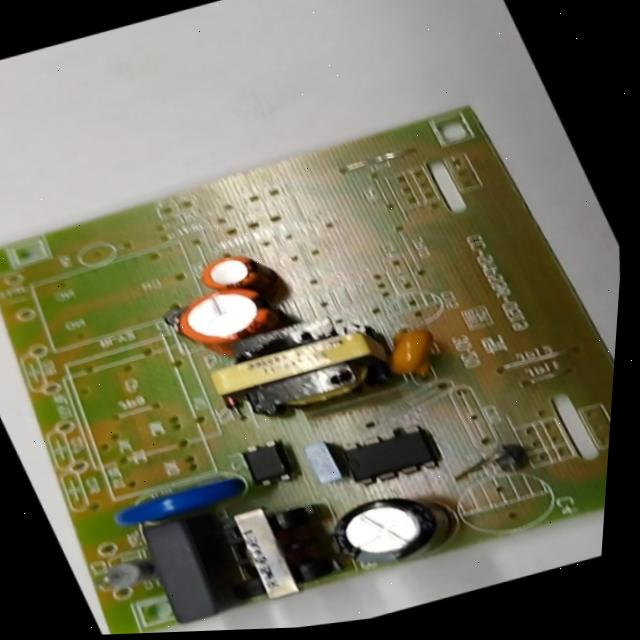Cap1: (169, 279, 283, 351)
Cap2: (193, 249, 266, 296)
Cap3: (319, 486, 459, 573)
MOSFET: (331, 417, 445, 490)
Mov: (106, 472, 249, 531)
Resistor: (91, 553, 159, 595)
Transformer: (193, 311, 400, 428), (204, 490, 351, 610)
